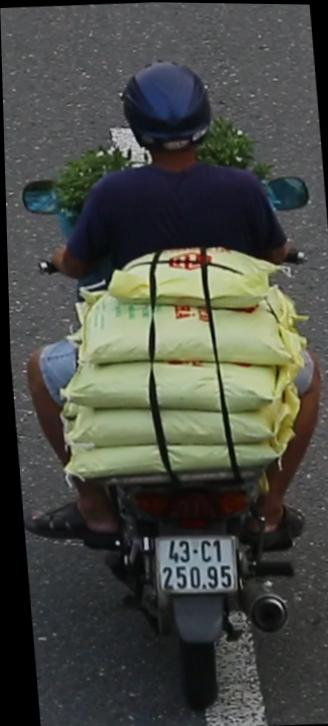LP: (143, 528, 238, 600)
helmet: (112, 48, 216, 184)
